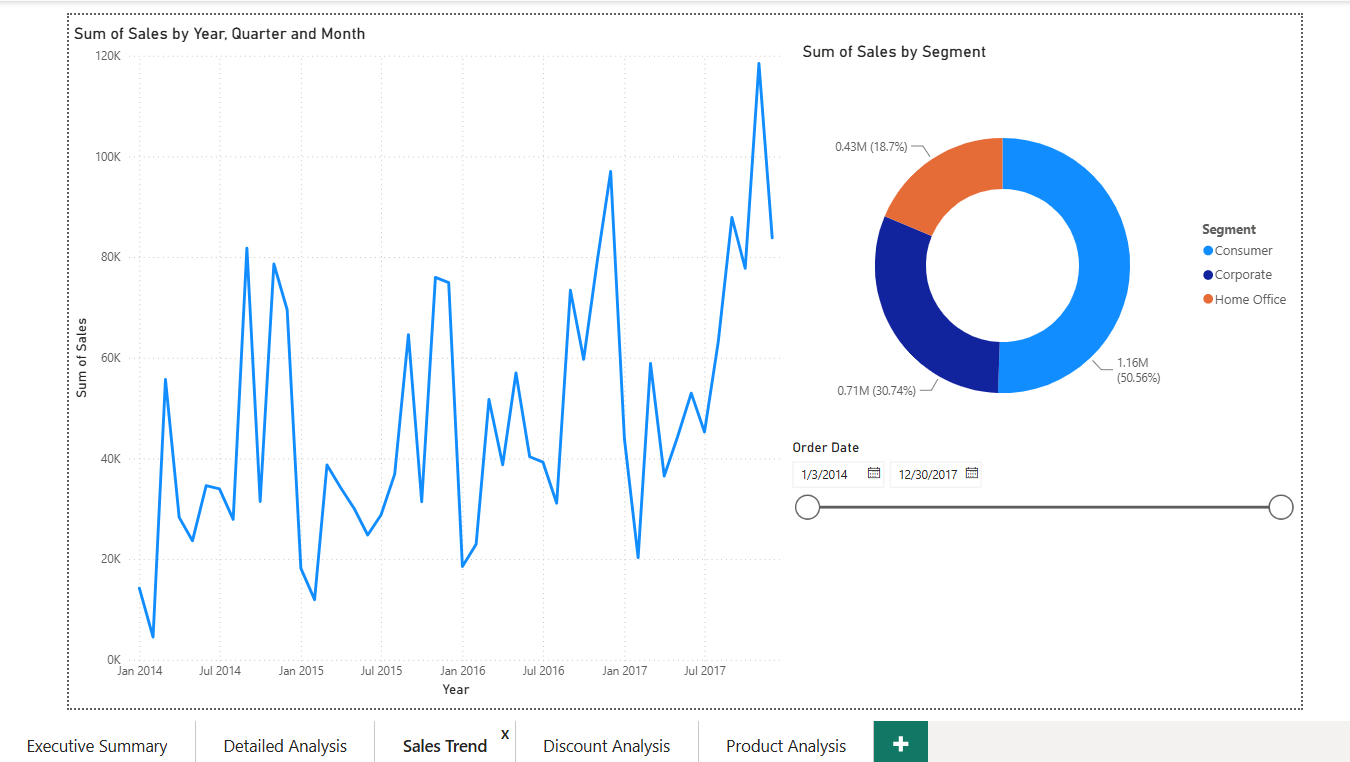

What the dashboard file says about the page in this screenshot:
{"tool":"powerbi","page":{"name":"Sales Trend","canvas":[1280,720],"ordinal":2},"visuals":[{"type":"donutChart","fields":{"Category":["Sample - Superstore.Segment"],"Y":["Sum(Sample - Superstore.Sales)"]},"box":[757.5,27.4,522.2,446.5],"z":0},{"type":"lineChart","fields":{"Y":["Sum(Sample - Superstore.Sales)"],"Category":["Sample - Superstore.Order Date.Variation.Date Hierarchy.Year","Sample - Superstore.Order Date.Variation.Date Hierarchy.Quarter","Sample - Superstore.Order Date.Variation.Date Hierarchy.Month","Sample - Superstore.Order Date.Variation.Date Hierarchy.Day"]},"box":[0,8.1,757.5,704.3],"z":1000},{"type":"slicer","fields":{"Values":["Sample - Superstore.Order Date"]},"box":[738.2,435.2,541.5,277.2],"z":2000}]}

Visuals, with their boxes on the page's 1280x720 design canvas (x1, y1, x2, y2). These are canvas units, not pixel positions in the 1350x762 screenshot, which may show the page scaled, cropped or inside an application window:
donutChart - Sample - Superstore.Segment x Sum(Sample - Superstore.Sales): box=[758, 27, 1280, 474]
lineChart - Sum(Sample - Superstore.Sales) x Sample - Superstore.Order Date.Variation.Date Hierarchy.Year: box=[0, 8, 758, 712]
slicer - Sample - Superstore.Order Date: box=[738, 435, 1280, 712]
